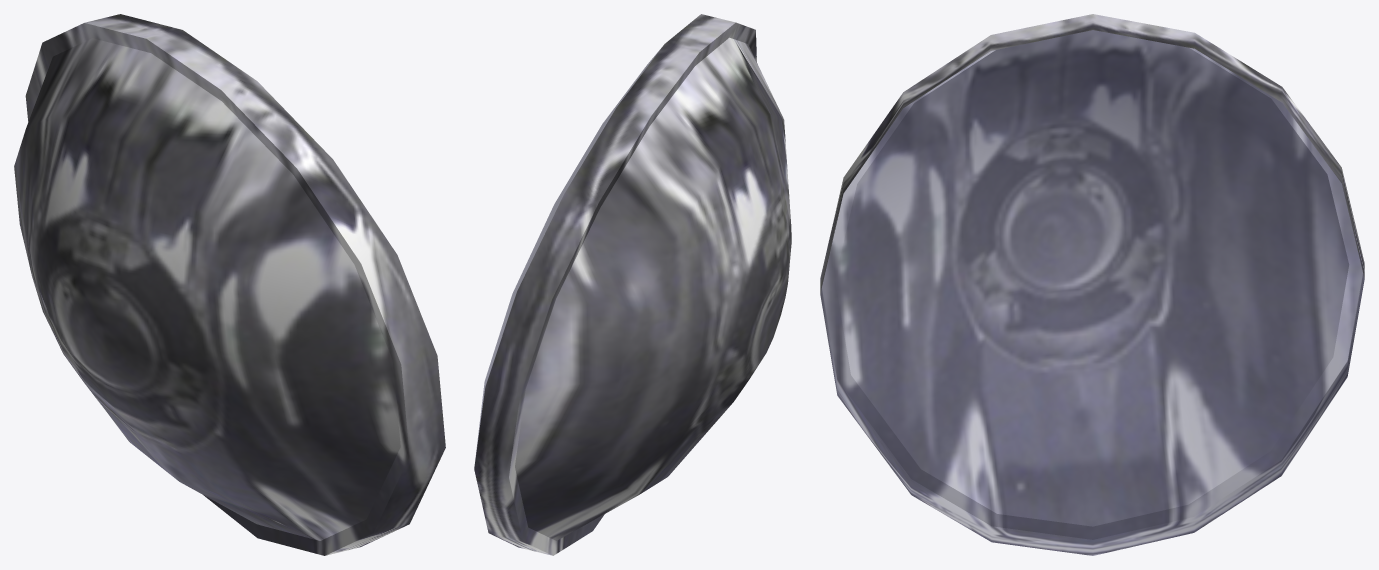
3 views of the same model, side by side, from view 1: azimuth 30°, elevation 25°; view 2: azimuth 150°, elevation 25°; view 3: azimuth 270°, elevation 25° (orthographic). The views are drawn at different scales.
Visible parts, largest first — view 1: J725_061B_L_J725_061B_L_1_N; view 2: J725_061B_L_J725_061B_L_1_N, J725_061B_L_3_DTaSI_J725_061B_L; view 3: J725_061B_L_J725_061B_L_1_N, J725_061B_L_3_DTaSI_J725_061B_L.
Part boxes in pixels (x1,y1,x2,y2): J725_061B_L_J725_061B_L_1_N: [14, 14, 445, 555]; J725_061B_L_J725_061B_L_1_N: [474, 14, 791, 555]; J725_061B_L_3_DTaSI_J725_061B_L: [475, 49, 660, 461]; J725_061B_L_J725_061B_L_1_N: [820, 14, 1364, 555]; J725_061B_L_3_DTaSI_J725_061B_L: [820, 30, 1364, 555].
Bounding box in the file's own units: 15.92 × 31.76 × 32.85.
